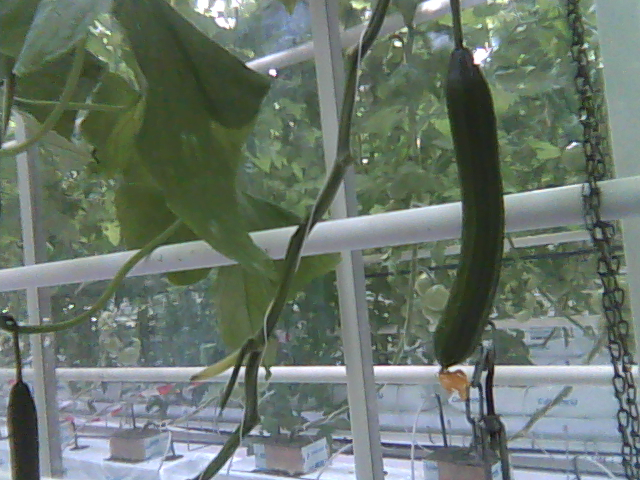concombre: (427, 40, 510, 405), (4, 373, 43, 480)
